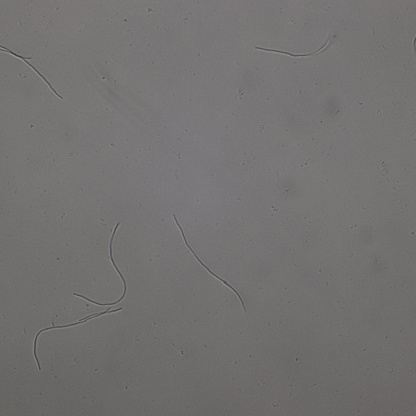Sensitive: (174, 215, 246, 312), (33, 307, 121, 370), (73, 223, 126, 306), (1, 45, 63, 98), (255, 35, 333, 57)
